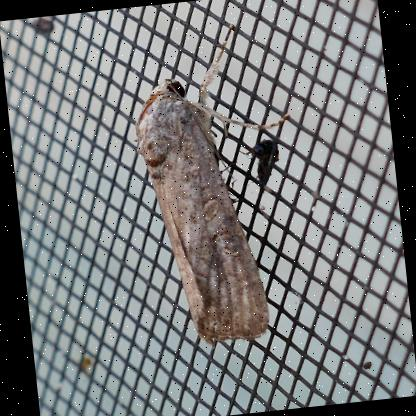Fall Armyworm Moth: (118, 16, 315, 356)
